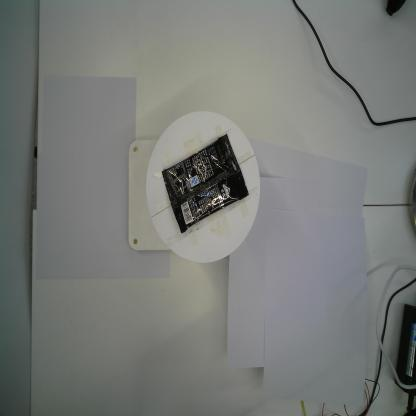Instant Drink: (161, 133, 250, 235)
